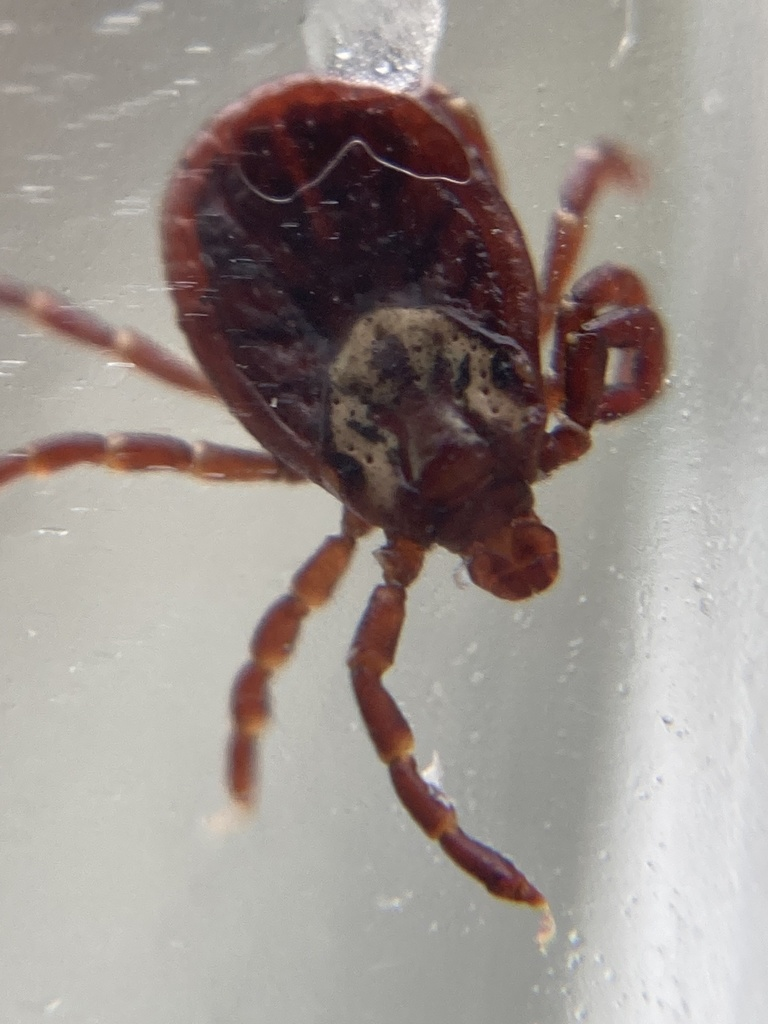garrapata: (9, 59, 751, 934)
